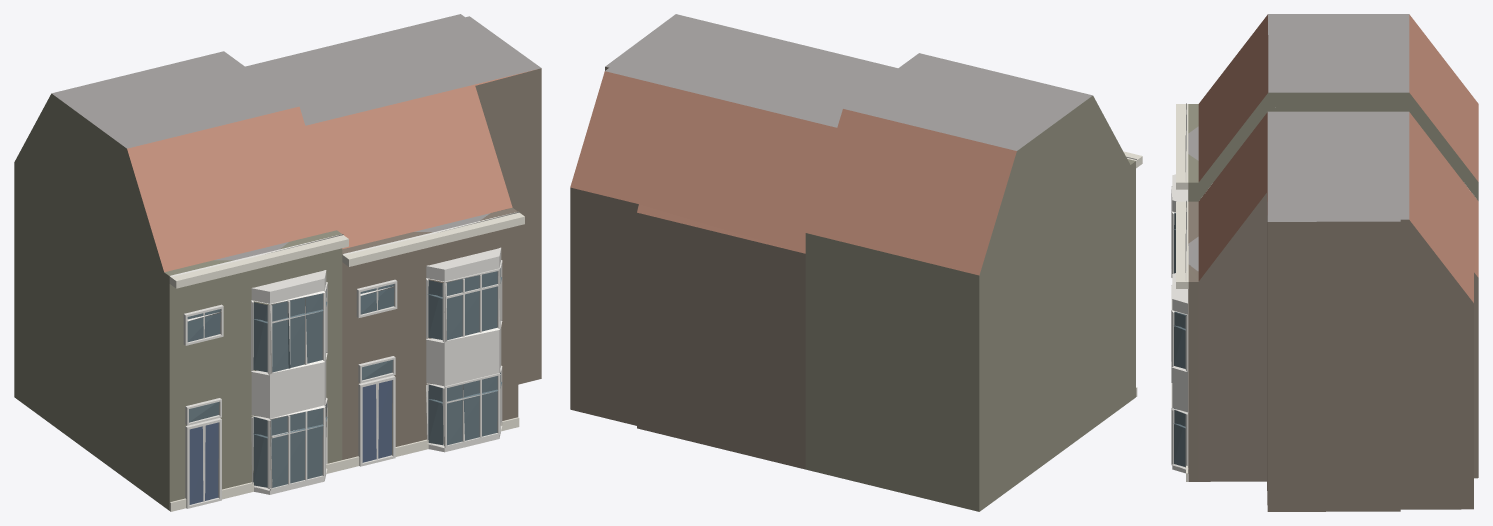
The model's file is chunk-face-kraaipan-41-45-r1.lod2.glb.
The picture shows the model from 3 angles, left to right: view 1: azimuth 30°, elevation 25°; view 2: azimuth 150°, elevation 25°; view 3: azimuth 270°, elevation 25°; orthographic projection. The views are drawn at different scales.
Visible parts, largest first — view 1: lod2; view 2: lod2; view 3: lod2.
Boxes of the visible parts, box(x1,y1,x2,y2) form: lod2: box(14, 14, 541, 511); lod2: box(570, 14, 1142, 511); lod2: box(1171, 14, 1478, 511).
Bounding box in the file's own units: 14.4 × 10.99 × 9.91.
